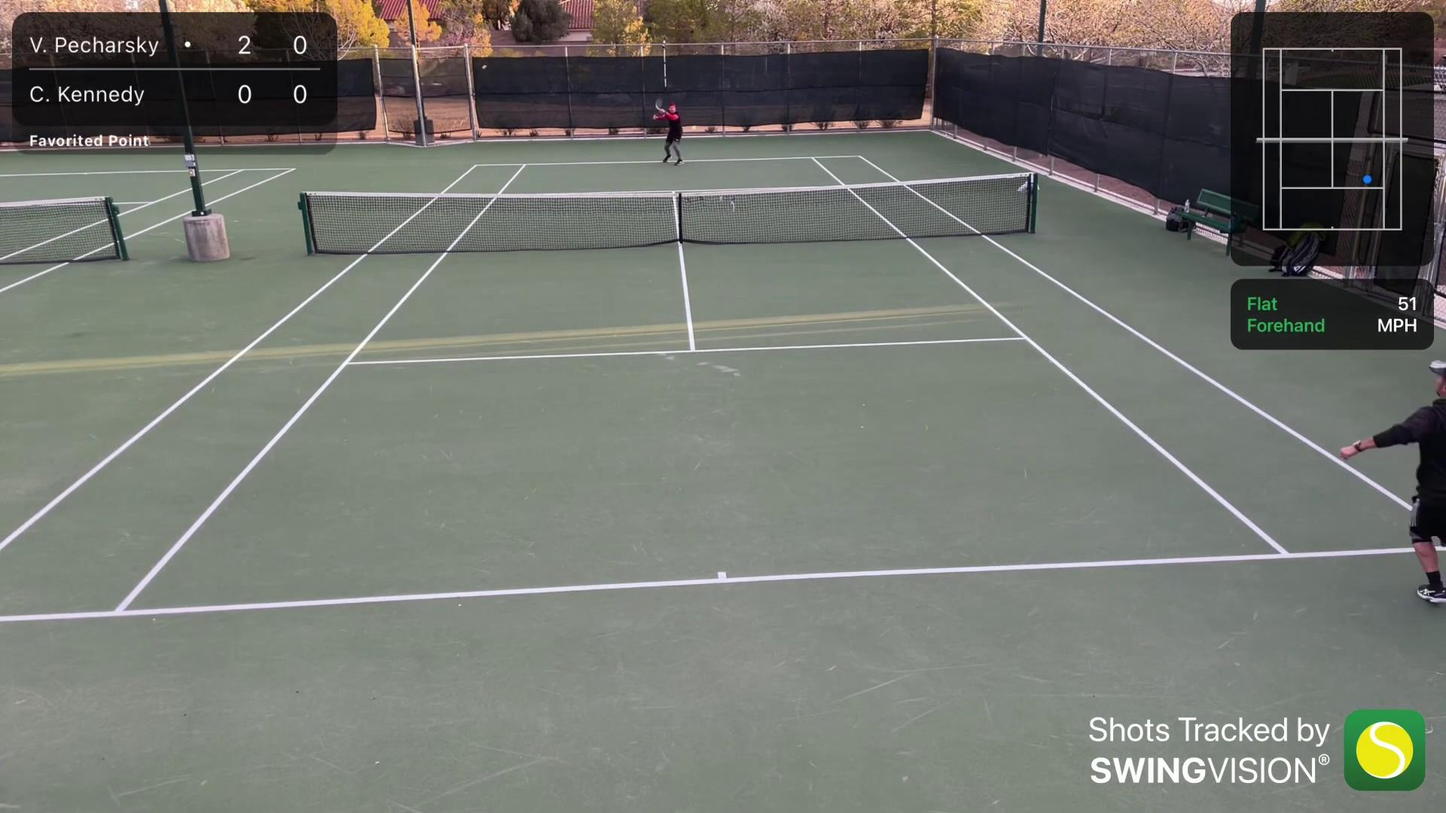ball: (480, 64, 488, 70)
